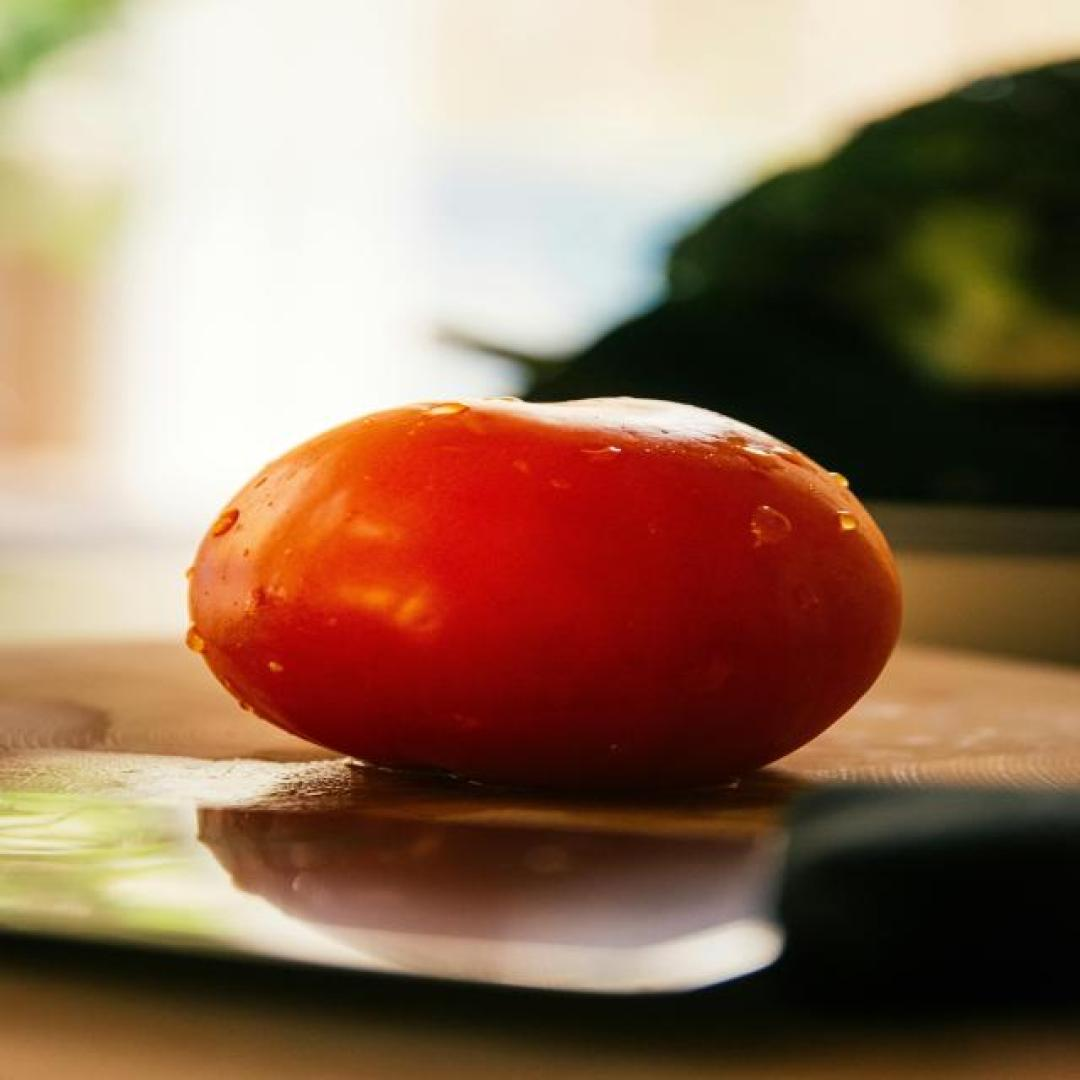matang: (187, 398, 903, 792)
